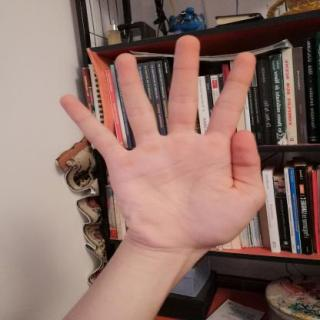SHEEN: (48, 28, 279, 258)
